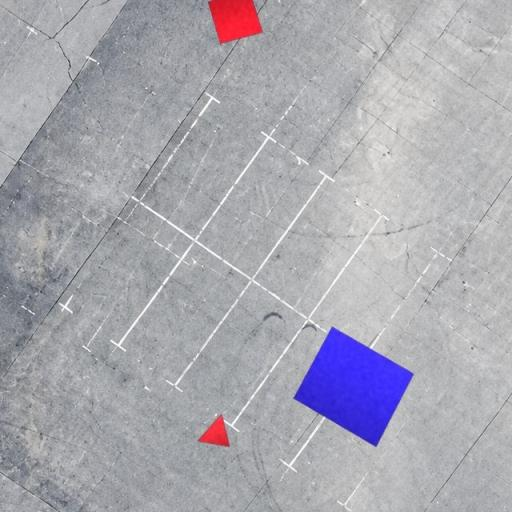BLUE_SQUARE: (293, 326, 414, 448)
RED_SQUARE: (207, 0, 263, 44)
